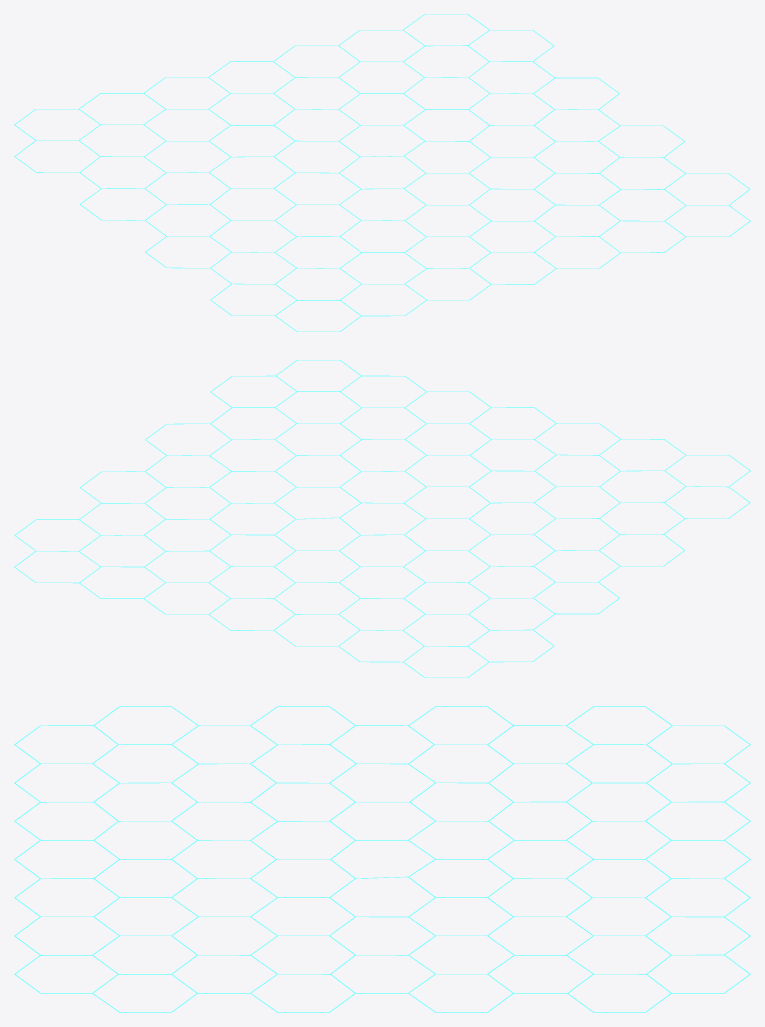
Rendered from setka_pole.fbx.
3 views of the same model, one above another, from view 1: azimuth 30°, elevation 25°; view 2: azimuth 150°, elevation 25°; view 3: azimuth 270°, elevation 25° (orthographic). The views are drawn at different scales.
Visible parts, largest first — view 1: Plane.150; view 2: Plane.150; view 3: Plane.150.
Part boxes in pixels (x1,y1,x2,y2): Plane.150: (14, 14, 750, 331); Plane.150: (14, 360, 750, 677); Plane.150: (14, 706, 750, 1012).
Bounding box in the file's own units: 4789 × 11.07 × 4870.
